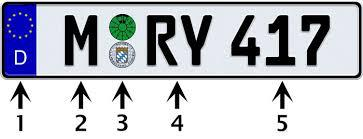1: (265, 15, 296, 67)
4: (230, 15, 261, 66)
7: (301, 14, 331, 67)
M: (64, 13, 98, 66)
R: (146, 14, 178, 67)
Y: (180, 14, 214, 67)
